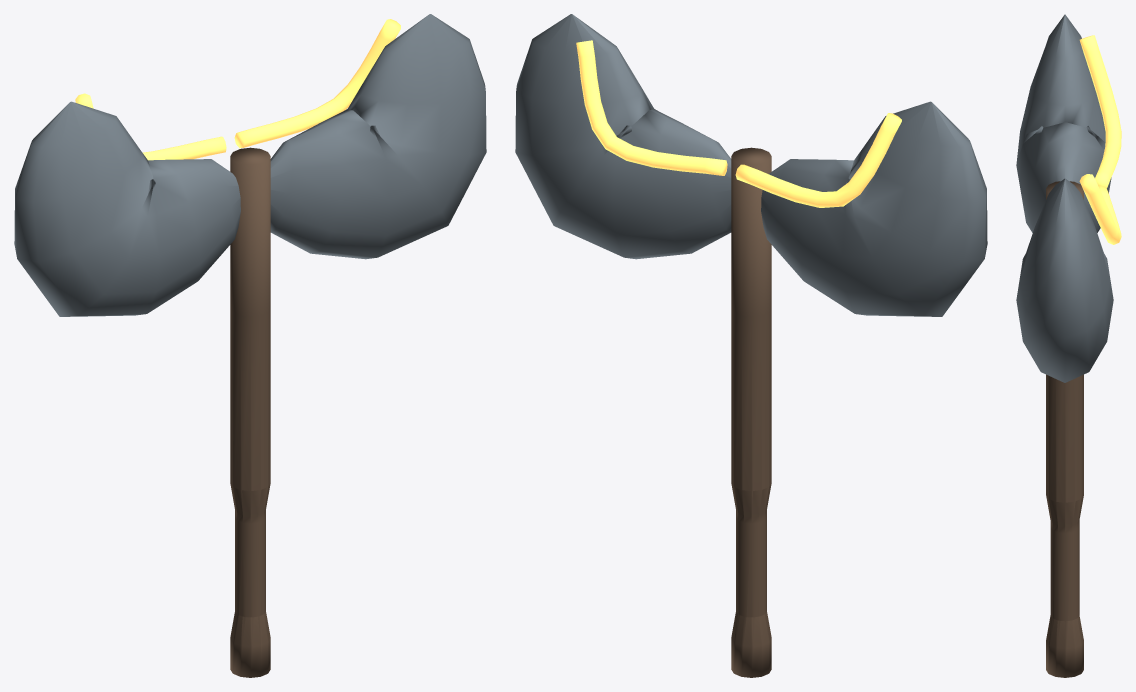
The model's file is guardian_3-fitted.glb.
The picture shows the model from 3 angles, left to right: view 1: azimuth 30°, elevation 25°; view 2: azimuth 150°, elevation 25°; view 3: azimuth 270°, elevation 25°; orthographic projection. The views are drawn at different scales.
Parts seen in each view (by area): view 1: Weapon__iron, Weapon__leather, Weapon__ember; view 2: Weapon__iron, Weapon__leather, Weapon__ember; view 3: Weapon__iron, Weapon__leather, Weapon__ember.
Part boxes in pixels (<box>): Weapon__iron: <box>14,14,486,316</box>; Weapon__leather: <box>230,147,270,677</box>; Weapon__ember: <box>75,19,400,160</box>; Weapon__iron: <box>515,14,987,316</box>; Weapon__leather: <box>731,147,771,677</box>; Weapon__ember: <box>576,40,901,207</box>; Weapon__iron: <box>1016,14,1113,382</box>; Weapon__leather: <box>1046,181,1083,677</box>; Weapon__ember: <box>1079,35,1121,244</box>.
Bounding box in the file's own units: 1.15 × 1.43 × 0.238.
